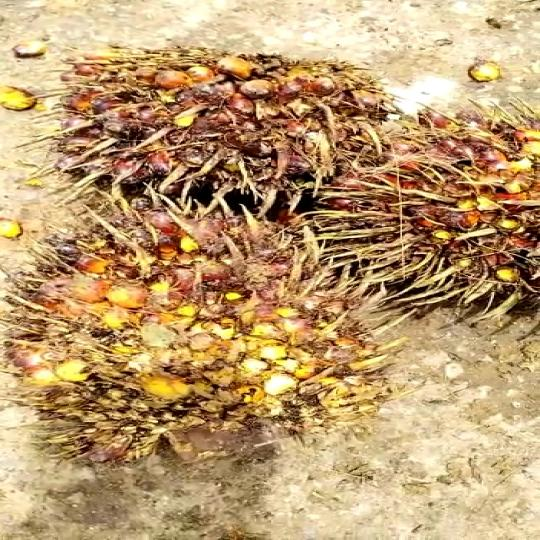masak: (5, 198, 400, 453), (56, 23, 352, 189)
